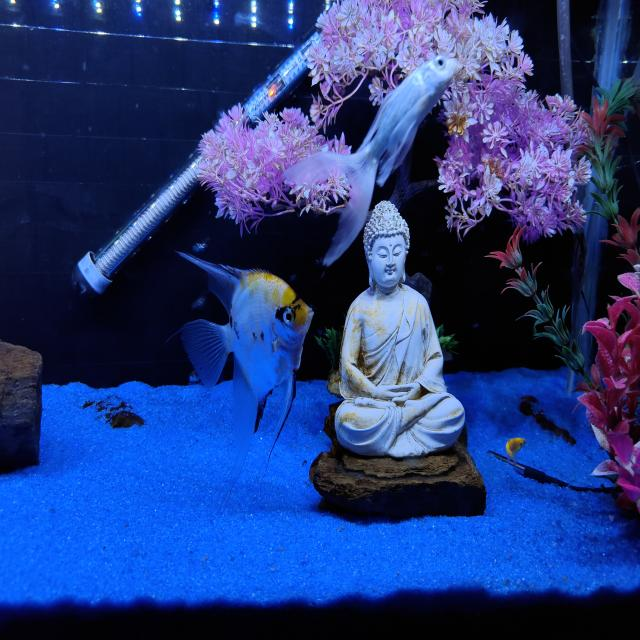Fish: (284, 56, 457, 265), (178, 252, 313, 512), (506, 438, 525, 463)
